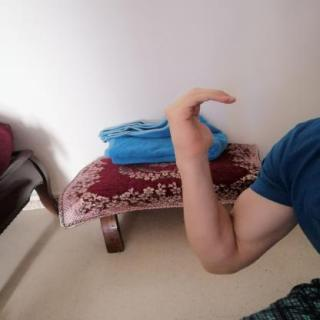HAA: (157, 81, 244, 157)
